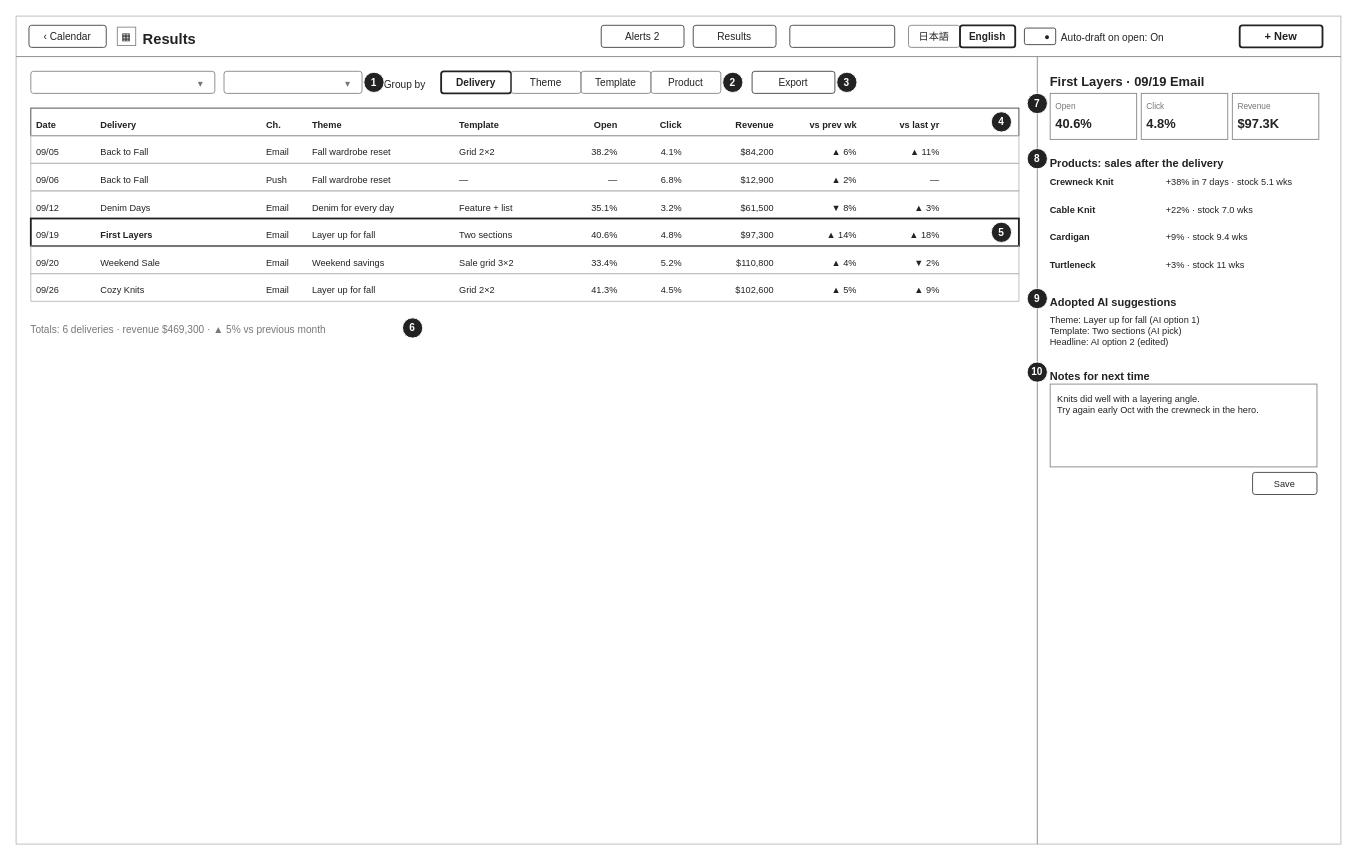
This 1358x861 diagram has some shape labels left out. Each missing label, with the box of its shape:
Channel: All: (223, 70, 362, 93)
Period: Sep 2026: (30, 70, 215, 93)
Templates: (789, 24, 895, 47)
